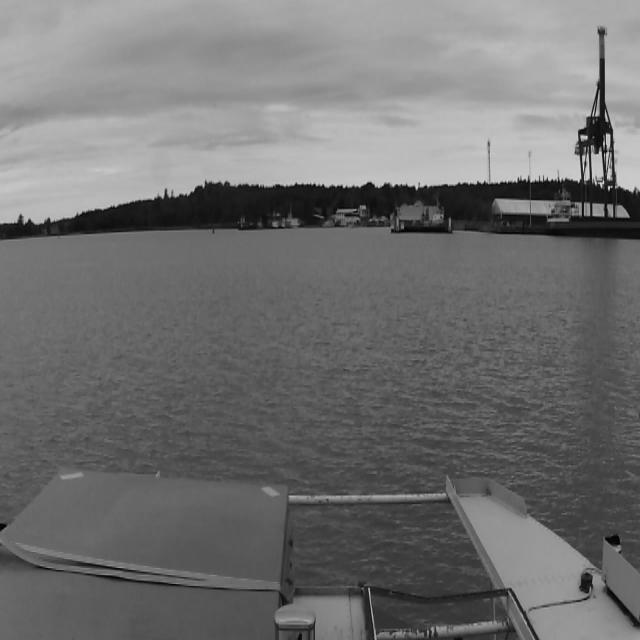buoy: (212, 228, 214, 234)
